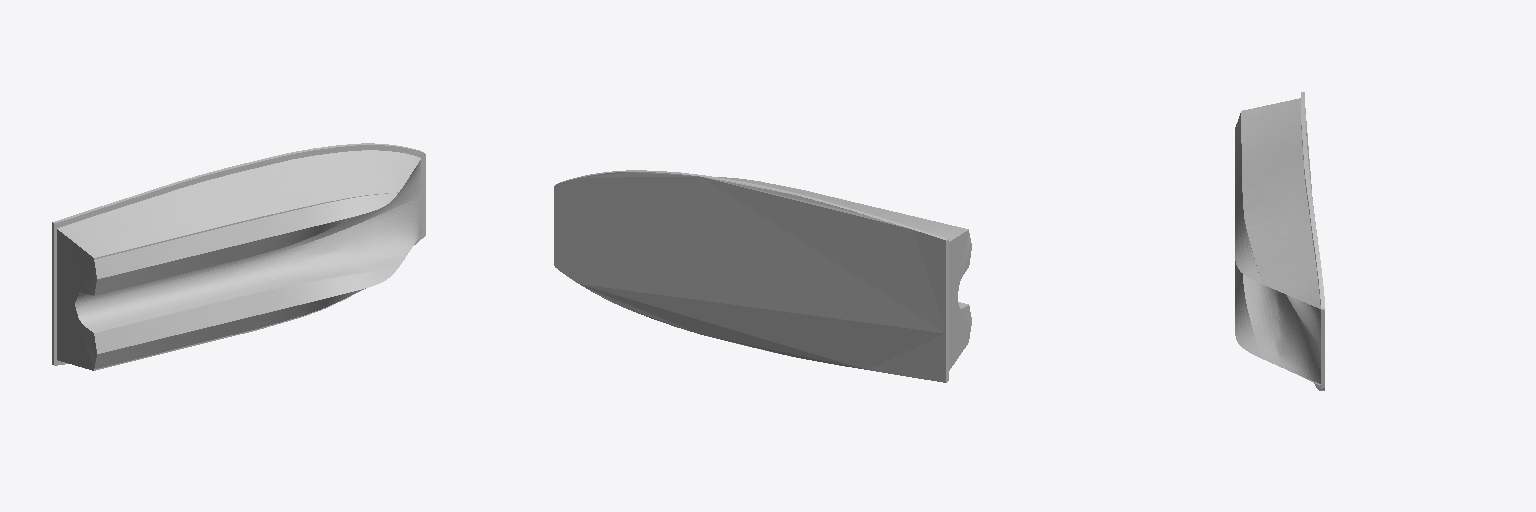
The model's file is zest_covered.obj.
The picture shows the model from 3 angles: view 1: azimuth 30°, elevation 25°; view 2: azimuth 150°, elevation 25°; view 3: azimuth 270°, elevation 25°; orthographic projection.
Parts seen in each view (by area): view 1: ZEST_-_Final; view 2: ZEST_-_Final; view 3: ZEST_-_Final.
Boxes of the visible parts, x1=… form: ZEST_-_Final: x1=52, y1=143, x2=425, y2=370; ZEST_-_Final: x1=554, y1=170, x2=971, y2=382; ZEST_-_Final: x1=1235, y1=92, x2=1324, y2=390.
Bounding box in the file's own units: 8.21 × 3.34 × 1.69.